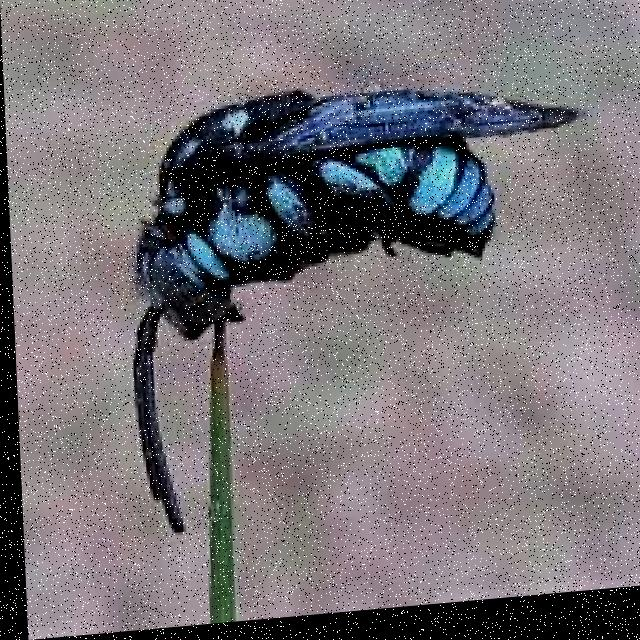Thyreus: (94, 50, 588, 543)
